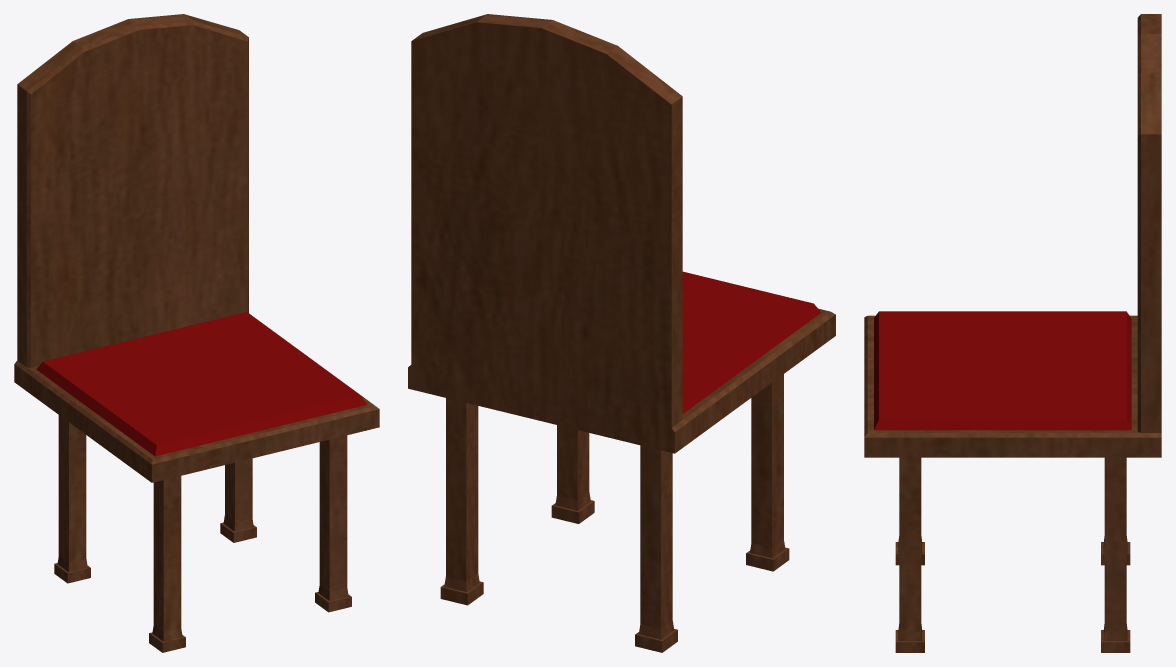
File: Wooden Chair.dae
3 views of the same model, side by side, from view 1: azimuth 30°, elevation 25°; view 2: azimuth 150°, elevation 25°; view 3: azimuth 270°, elevation 25° (orthographic). The views are drawn at different scales.
Parts seen in each view (by area): view 1: SketchUp (×6); view 2: SketchUp (×9); view 3: SketchUp (×6).
Boxes of the visible parts, left/top/right/bottom form: SketchUp (×6): left=14, top=14, right=379, bottom=641; SketchUp (×9): left=408, top=14, right=835, bottom=639; SketchUp (×6): left=864, top=14, right=1161, bottom=652.
Size of the model in its own units: 22.09 by 23.1 by 48.43.
Materials: 2 (1 with a texture image).
